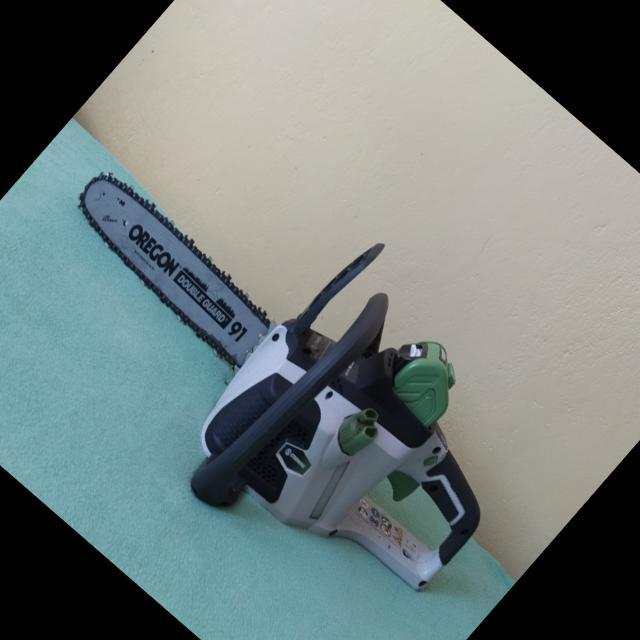Chainsaw: (0, 63, 592, 640)
